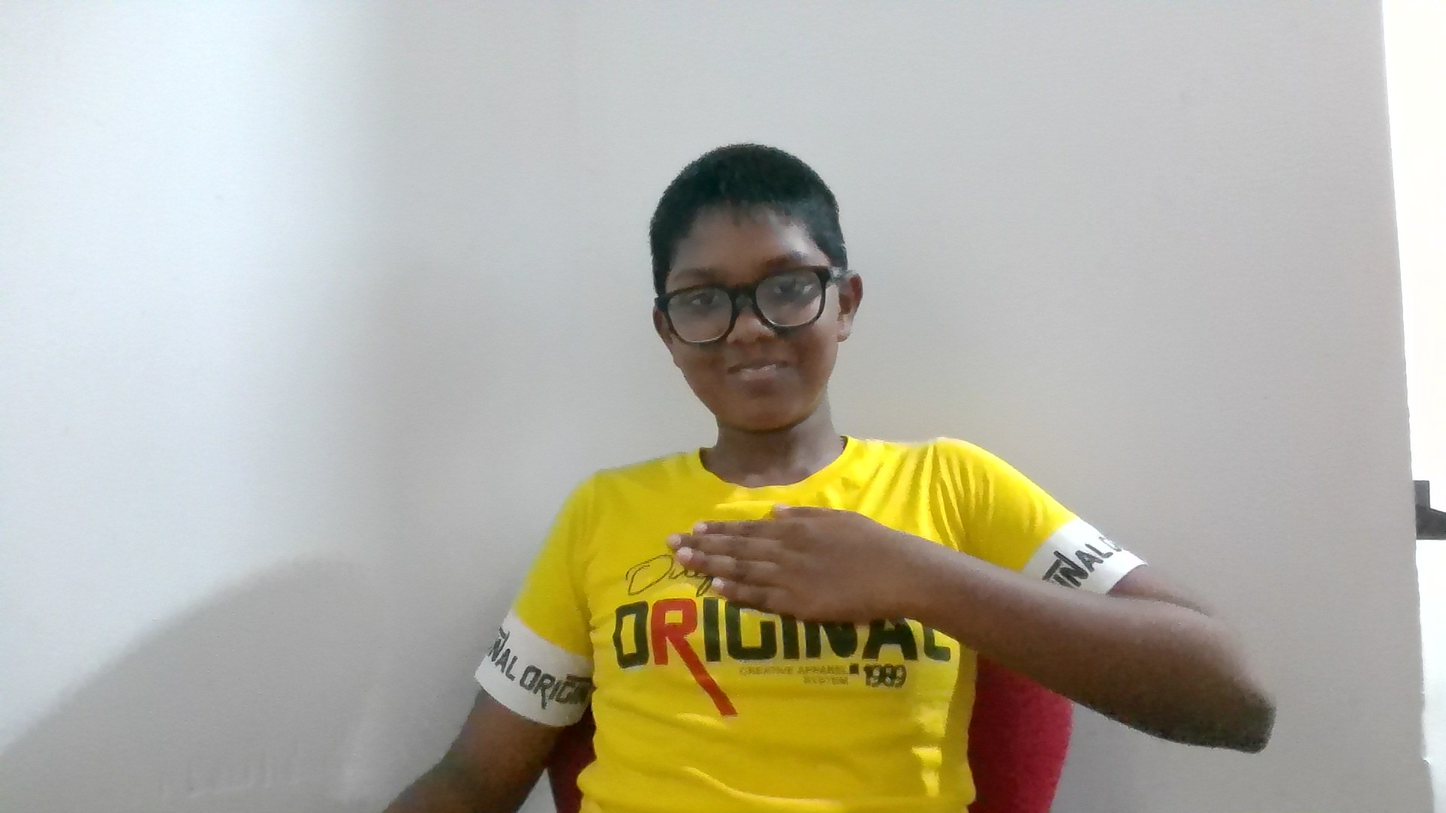Please: (651, 475, 1063, 693)
